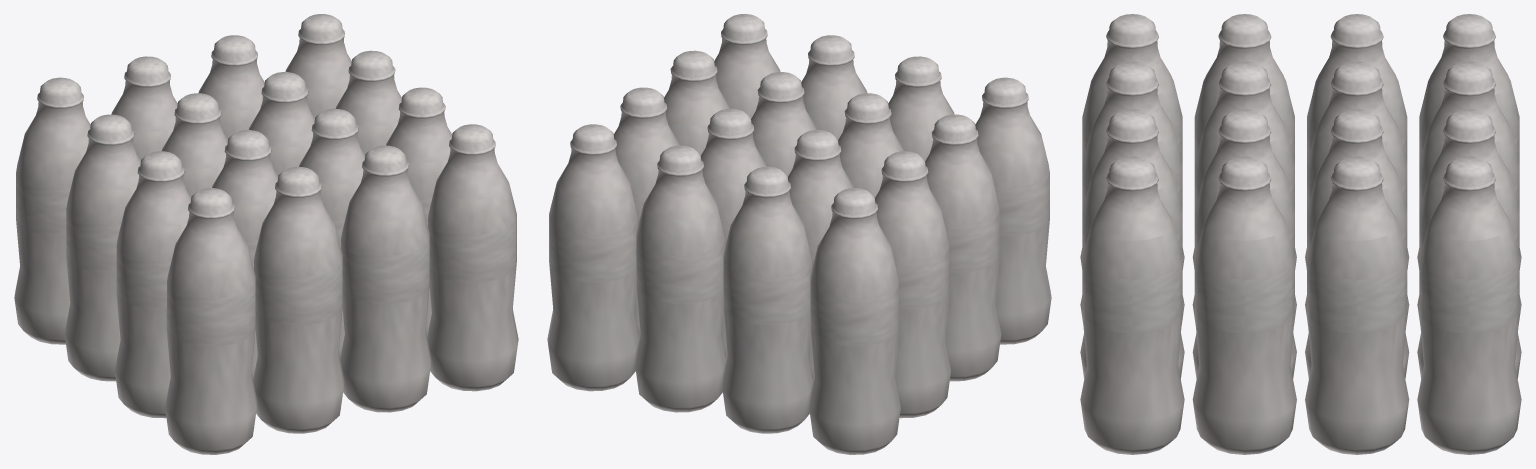
File: Orange_Fanta.fbx
3 views of the same model, side by side, from view 1: azimuth 30°, elevation 25°; view 2: azimuth 150°, elevation 25°; view 3: azimuth 270°, elevation 25° (orthographic). The views are drawn at different scales.
Parts seen in each view (by area): view 1: Orange_Fanta177_Orange_Fanta; view 2: Orange_Fanta177_Orange_Fanta; view 3: Orange_Fanta177_Orange_Fanta.
Part boxes in pixels (x1,y1,x2,y2): Orange_Fanta177_Orange_Fanta: [14, 14, 518, 454]; Orange_Fanta177_Orange_Fanta: [547, 14, 1051, 454]; Orange_Fanta177_Orange_Fanta: [1080, 14, 1521, 454].
Size of the model in its own units: 39.28 by 27.21 by 39.28.
